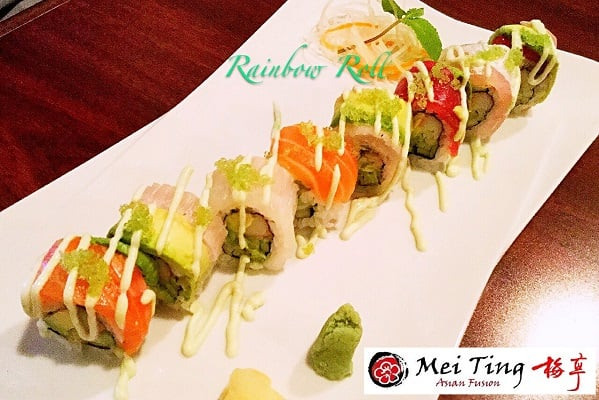curry: (1, 0, 599, 393)
pizza: (277, 121, 359, 208), (121, 266, 155, 355)
